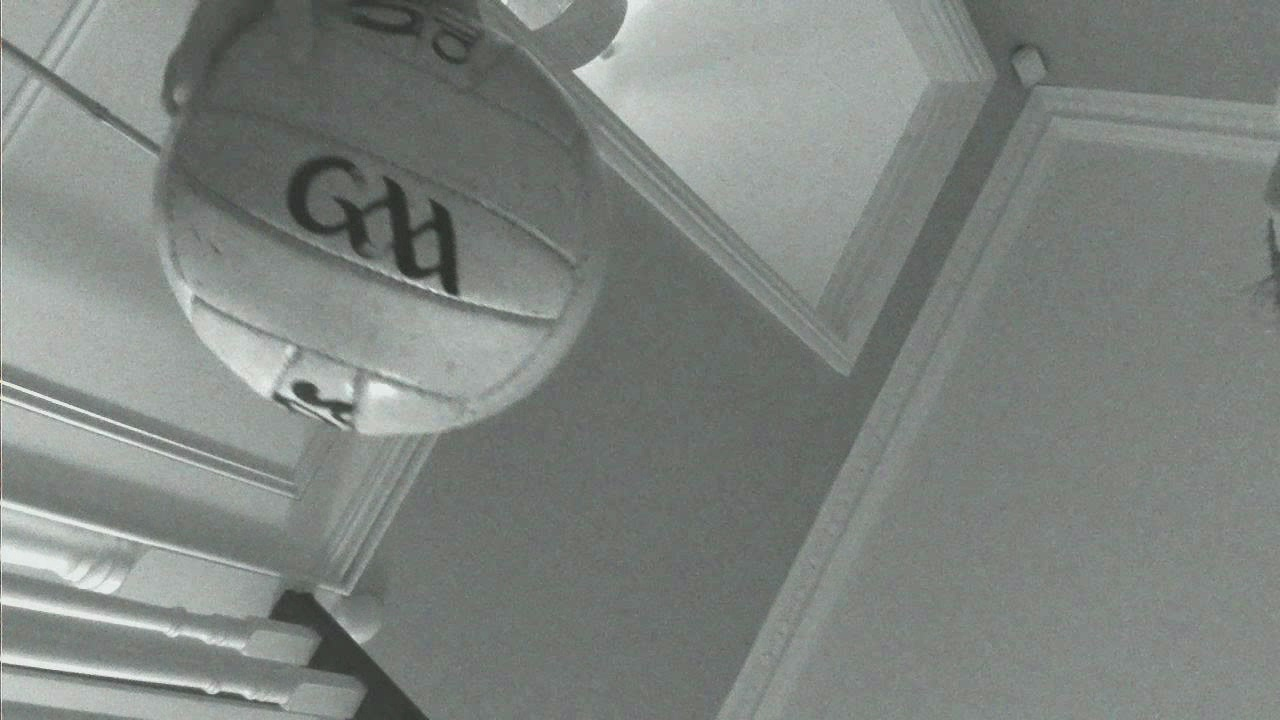Football-Spotter: (156, 0, 607, 434)
